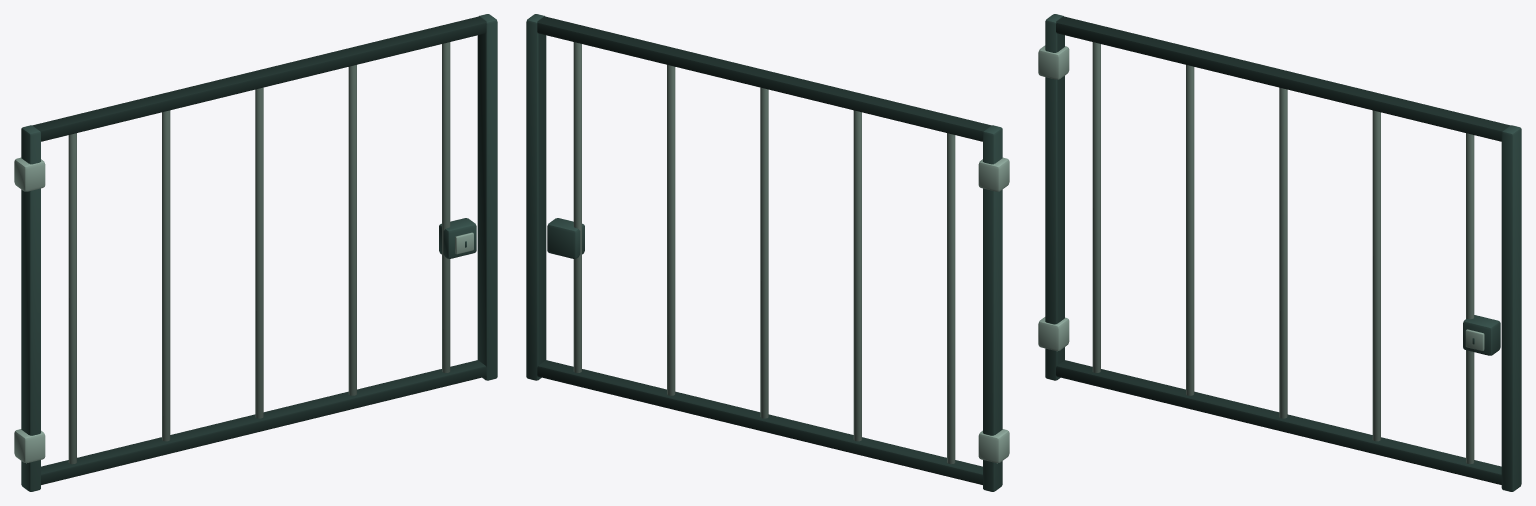
The model's file is kf-gate.glb.
3 views of the same model, side by side, from view 1: azimuth 30°, elevation 25°; view 2: azimuth 150°, elevation 25°; view 3: azimuth 330°, elevation 25° (orthographic).
Parts seen in each view (by area): view 1: Fixture Painted frame, Fixture Steel fittings; view 2: Fixture Painted frame, Fixture Steel fittings; view 3: Fixture Painted frame, Fixture Steel fittings.
Part boxes in pixels (left/top/right/bottom): Fixture Painted frame: left=21, top=14, right=497, bottom=491; Fixture Steel fittings: left=14, top=42, right=473, bottom=464; Fixture Painted frame: left=526, top=14, right=1002, bottom=491; Fixture Steel fittings: left=573, top=42, right=1009, bottom=464; Fixture Painted frame: left=1045, top=14, right=1521, bottom=491; Fixture Steel fittings: left=1038, top=42, right=1484, bottom=463.
Size of the model in its own units: 3.66 by 2.65 by 0.192.
